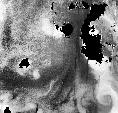CE: (93, 85, 118, 107)
